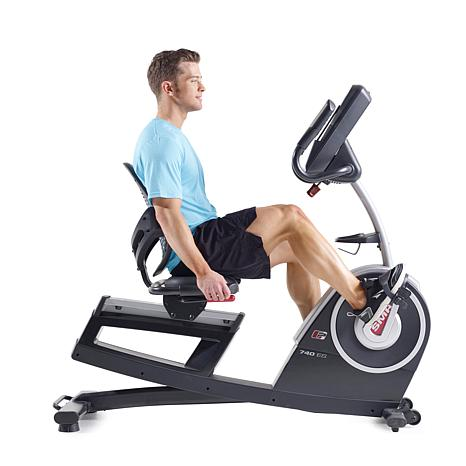gym_bike: (47, 89, 439, 439)
